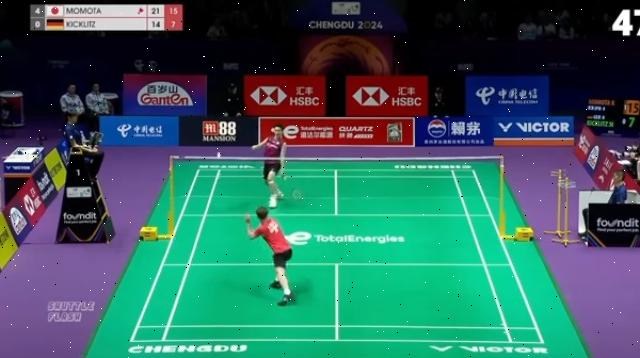Shuttlecock: (216, 151, 224, 157)
